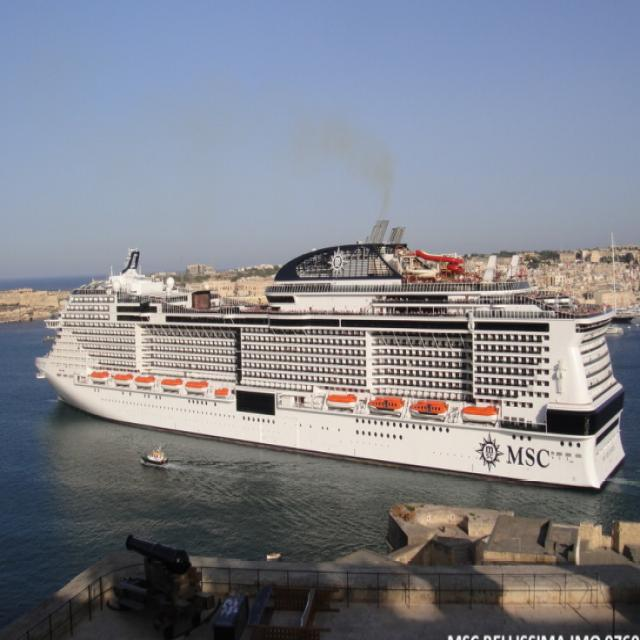cruises: (32, 218, 631, 501)
